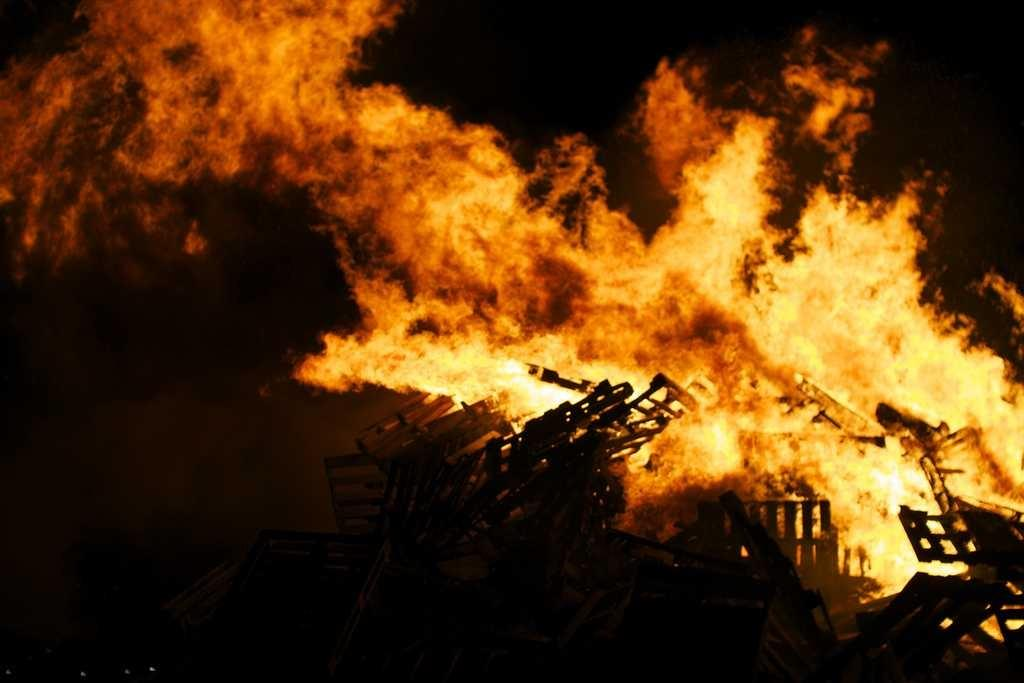fire: (447, 167, 548, 307), (783, 272, 912, 368), (215, 7, 317, 105), (680, 185, 757, 295), (683, 422, 777, 473), (932, 352, 993, 430), (833, 457, 898, 528), (368, 343, 480, 375)
